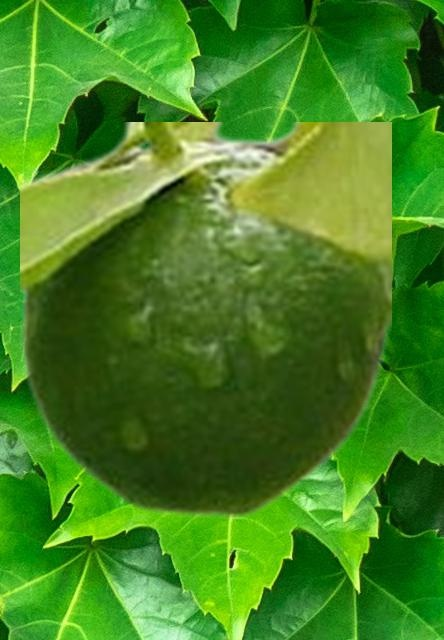dalandan: (20, 122, 390, 516)
